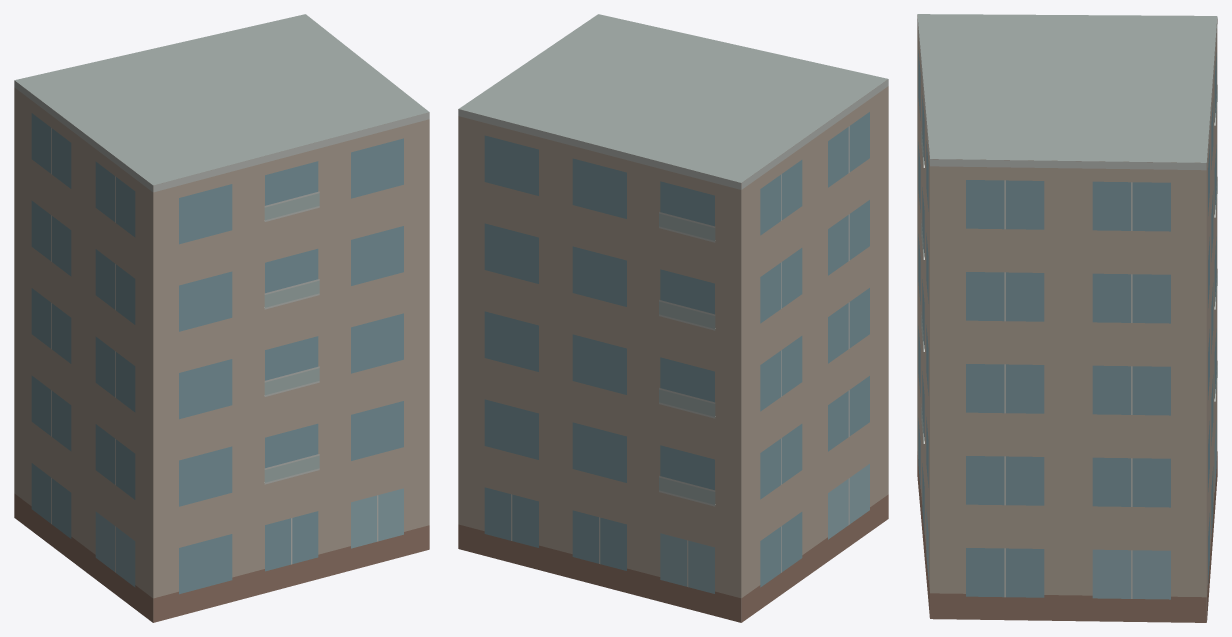
The model's file is survey-upis-32652126.glb.
3 renders of one model, left to right at view 1: azimuth 30°, elevation 25°; view 2: azimuth 150°, elevation 25°; view 3: azimuth 270°, elevation 25°, orthographic. The views are drawn at different scales.
Parts seen in each view (by area): view 1: survey-upis-32652126.tmp; view 2: survey-upis-32652126.tmp; view 3: survey-upis-32652126.tmp.
Boxes of the visible parts, bbox=[...] form: survey-upis-32652126.tmp: bbox=[14, 14, 429, 622]; survey-upis-32652126.tmp: bbox=[458, 14, 888, 622]; survey-upis-32652126.tmp: bbox=[917, 14, 1217, 622].
Size of the model in its own units: 10.59 by 15.25 by 9.03.
